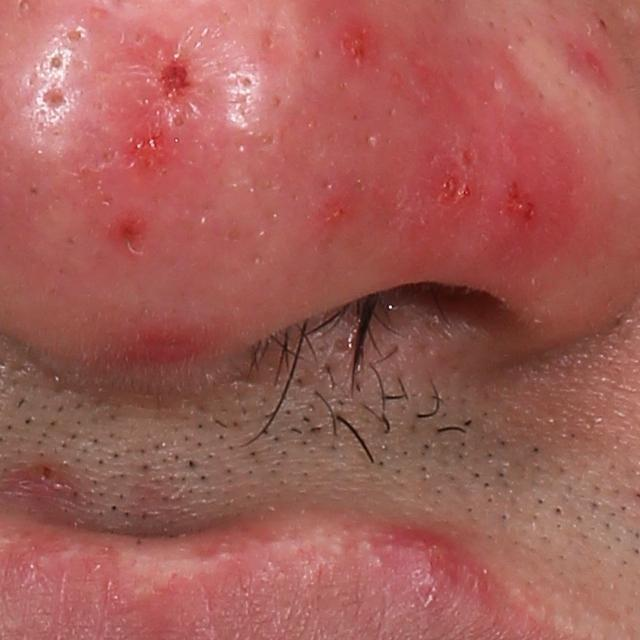comedo: (36, 49, 73, 80), (57, 24, 86, 46)
papule: (111, 317, 226, 385), (387, 522, 474, 604), (295, 177, 363, 245), (138, 49, 200, 113), (328, 23, 388, 74), (106, 213, 149, 260), (24, 459, 68, 491)
